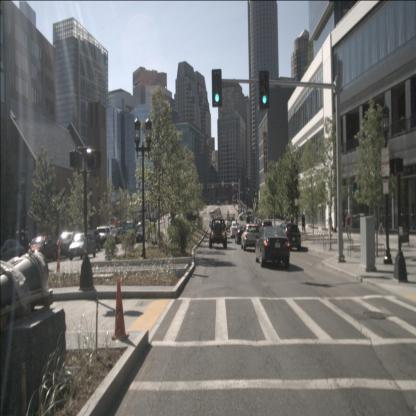cone: (111, 279, 129, 340), (54, 235, 62, 276)
